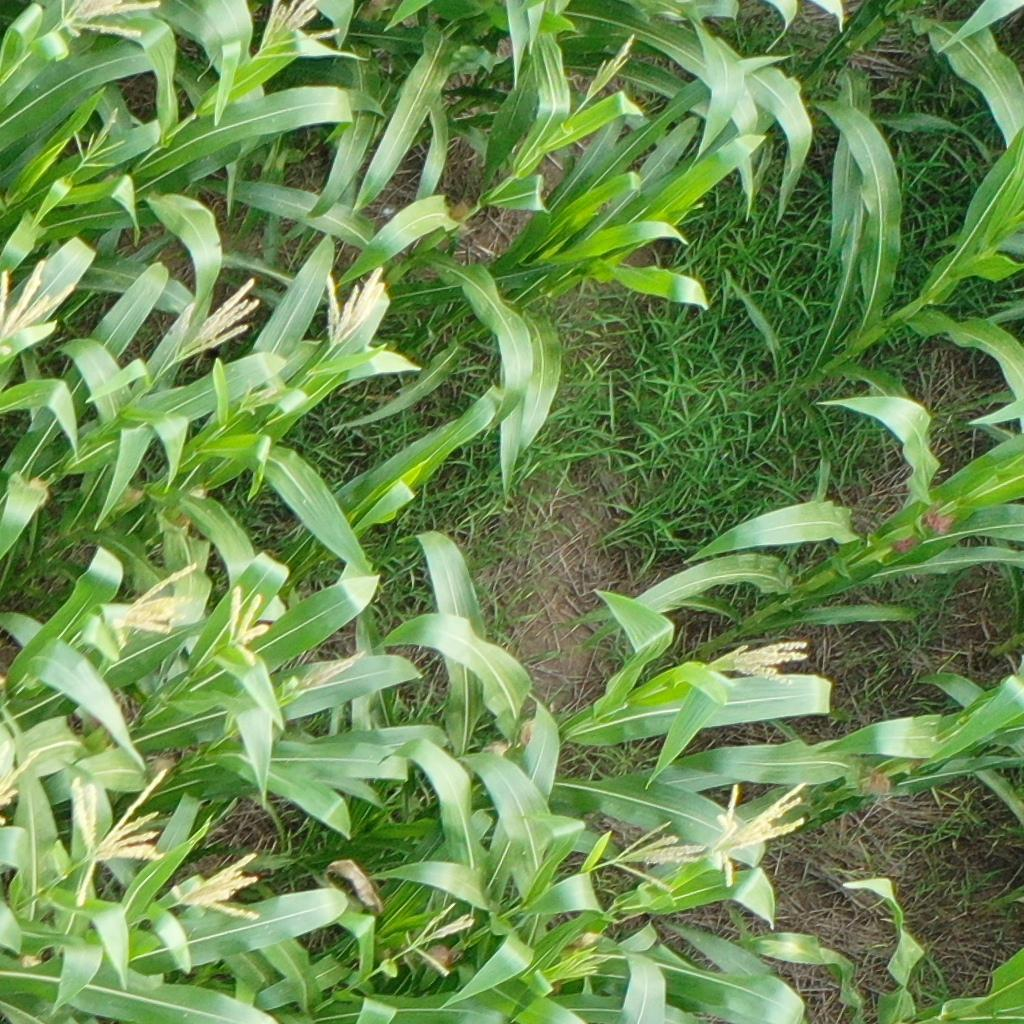Tassel: (65, 767, 167, 913), (709, 777, 814, 891), (105, 560, 209, 655), (169, 277, 263, 370), (608, 815, 705, 903), (1, 259, 78, 357), (168, 850, 265, 926), (254, 1, 359, 65), (703, 634, 812, 690), (323, 263, 386, 350), (403, 902, 471, 981), (219, 581, 277, 670), (280, 650, 368, 705), (63, 103, 129, 172), (57, 1, 167, 40), (1, 737, 40, 828), (586, 32, 635, 96), (548, 949, 621, 983), (236, 378, 285, 419)
